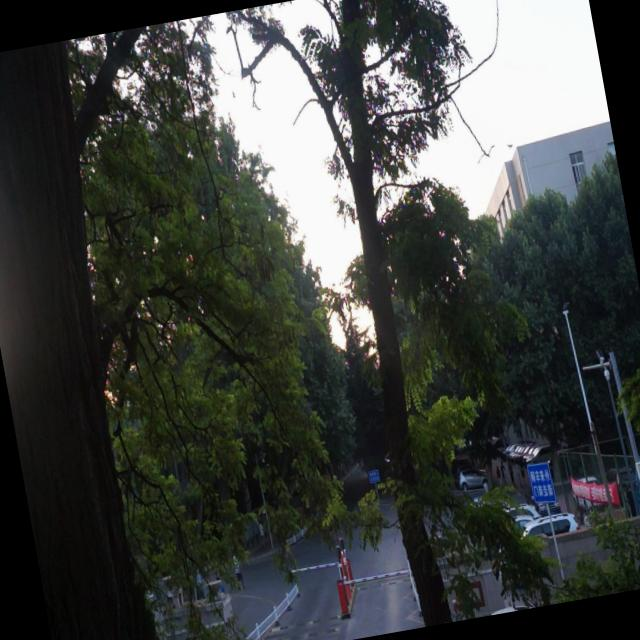drone: (503, 136, 515, 152)
